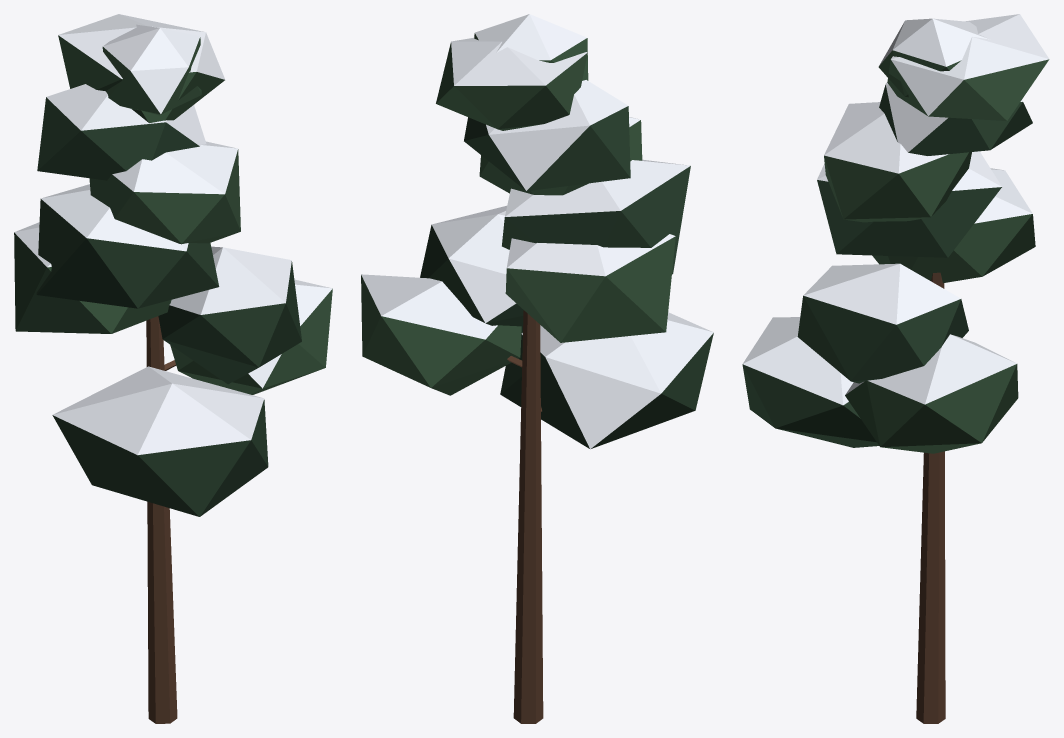
File: pine-3.glb
3 renders of one model, left to right at view 1: azimuth 30°, elevation 25°; view 2: azimuth 150°, elevation 25°; view 3: azimuth 270°, elevation 25°, orthographic. The views are drawn at different scales.
Parts seen in each view (by area): view 1: pine-3; view 2: pine-3; view 3: pine-3.
Boxes of the visible parts, x1,y1,x2,y2 form: pine-3: (14,14,332,723); pine-3: (361,14,713,723); pine-3: (742,14,1049,723).
Bounding box in the file's own units: 6.38 × 13.68 × 5.44.
